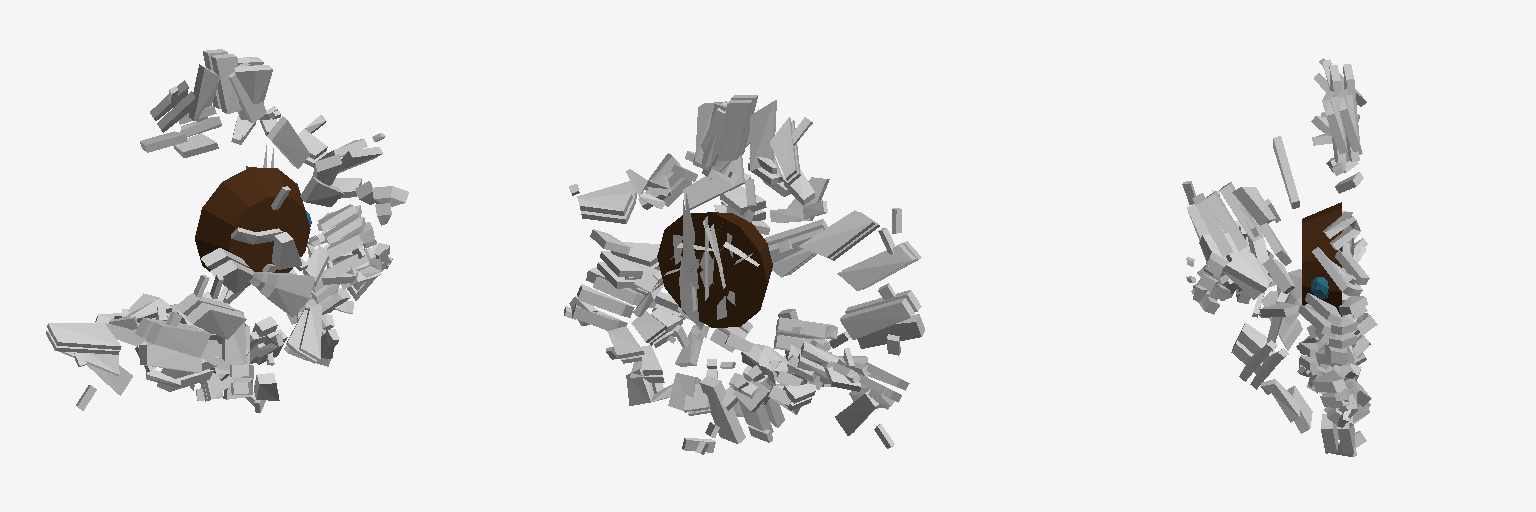
3 renders of one model, left to right at view 1: azimuth 30°, elevation 25°; view 2: azimuth 150°, elevation 25°; view 3: azimuth 270°, elevation 25°, orthographic.
Parts seen in each view (by area): view 1: Cone.001_Cone.001_cover, Cone_Cone_cover, Cylinder_Cylinder_Material.001; view 2: Cone_Cone_cover, Cone.001_Cone.001_cover, Cylinder_Cylinder_Material.001, Plane_Plane_Material.003; view 3: Cone_Cone_cover, Cone.001_Cone.001_cover, Cylinder_Cylinder_Material.001.
Boxes of the visible parts, box(x1,y1,x2,y2) form: Cone.001_Cone.001_cover: box(46, 49, 385, 410); Cone_Cone_cover: box(109, 154, 408, 412); Cylinder_Cylinder_Material.001: box(195, 167, 310, 272); Cone_Cone_cover: box(564, 153, 924, 454); Cone.001_Cone.001_cover: box(569, 95, 909, 448); Cylinder_Cylinder_Material.001: box(657, 212, 772, 327); Plane_Plane_Material.003: box(664, 194, 759, 330); Cone_Cone_cover: box(1186, 182, 1377, 456); Cone.001_Cone.001_cover: box(1182, 58, 1370, 407); Cylinder_Cylinder_Material.001: box(1302, 202, 1341, 316).
Bounding box in the file's own units: 3.42 × 3.53 × 1.7.
4 materials, 1 textured.